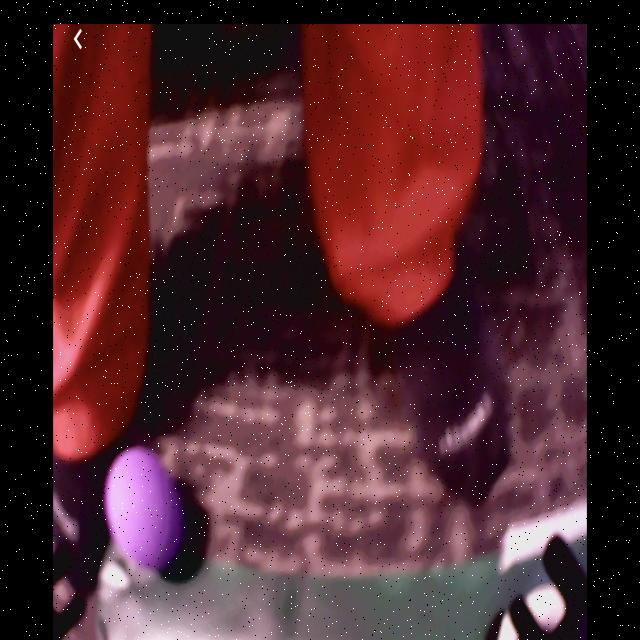ball: (107, 449, 183, 572)
